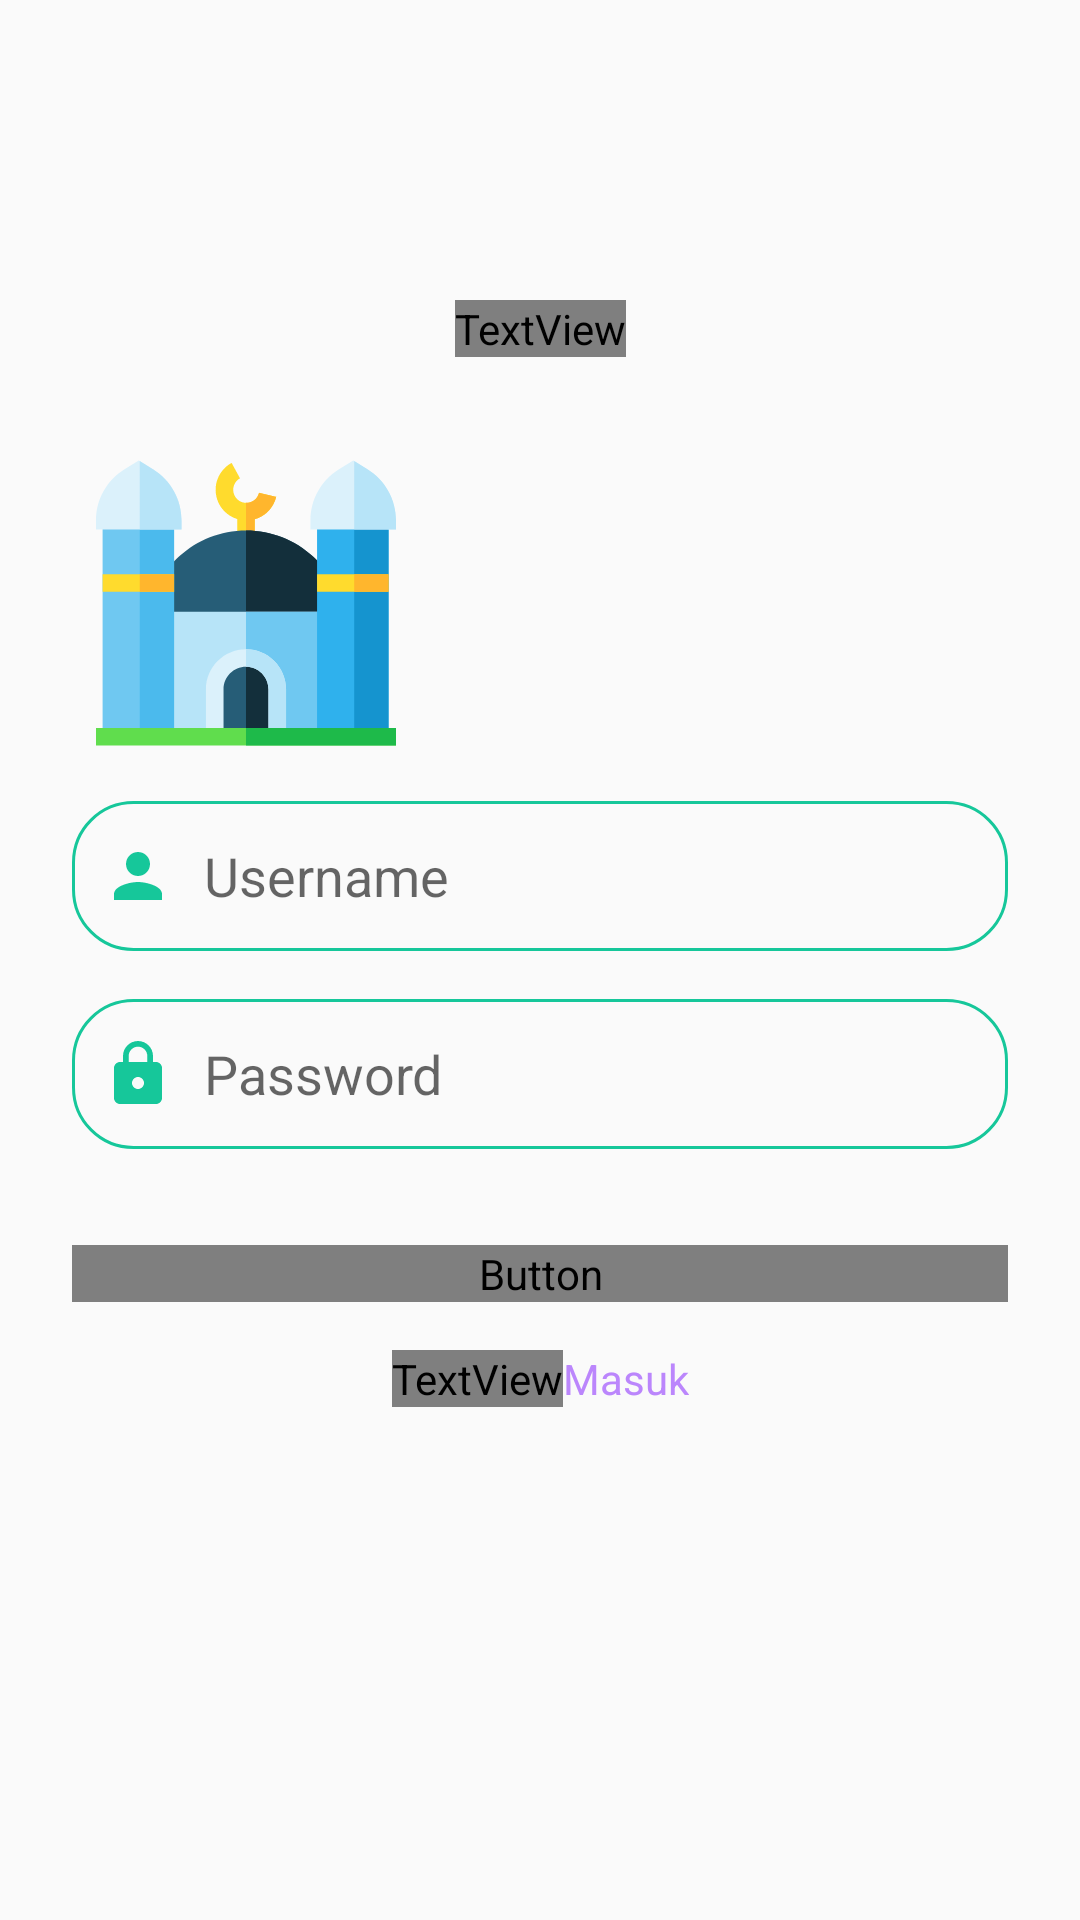

Where icons sit on this 1080 x 1920 app screen, as (x1, y1, x2, y2):
mosque: (96, 461, 396, 746)
